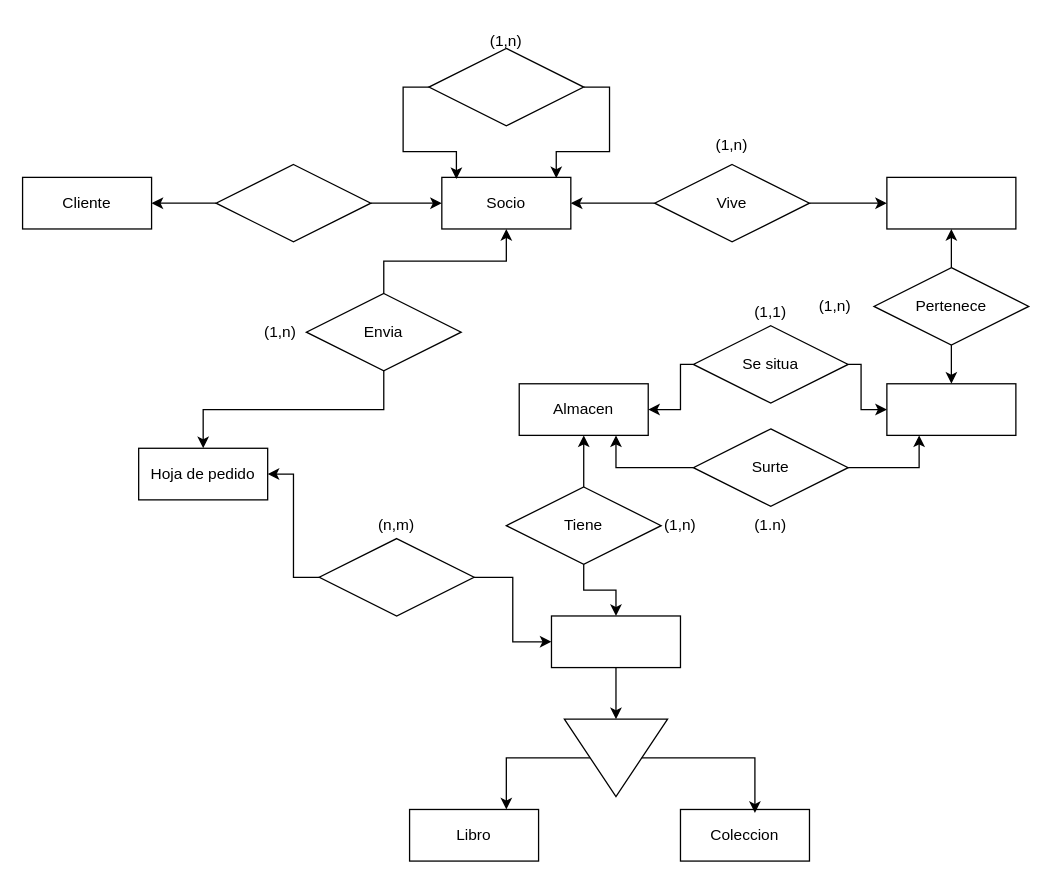
Some shapes in this 1051 by 884 pixel diagram are drawn without their labels. The centre of each missing label's shape, as x and y in pixels:
Avala: [506,86]
Contiene: [396,576]
Libros: [615,641]
Población: [951,202]
Provincia: [951,408]
Se hace: [293,202]
